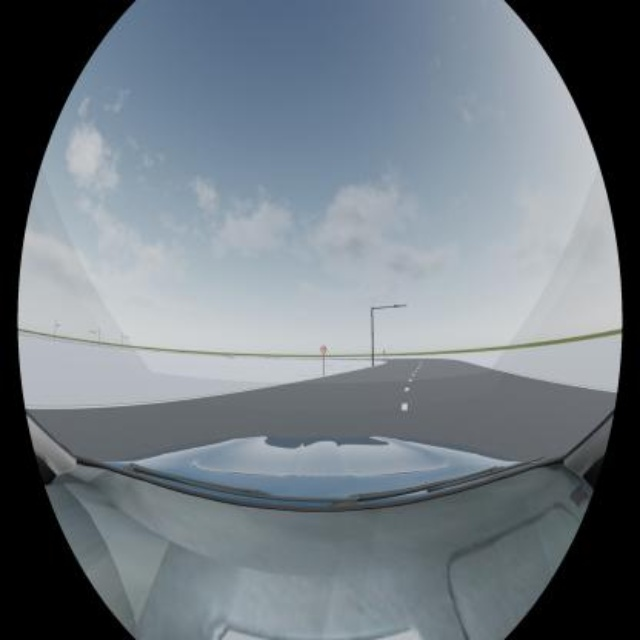Tốc độ tối đa cho phép 110km/h: (321, 345, 327, 353)
